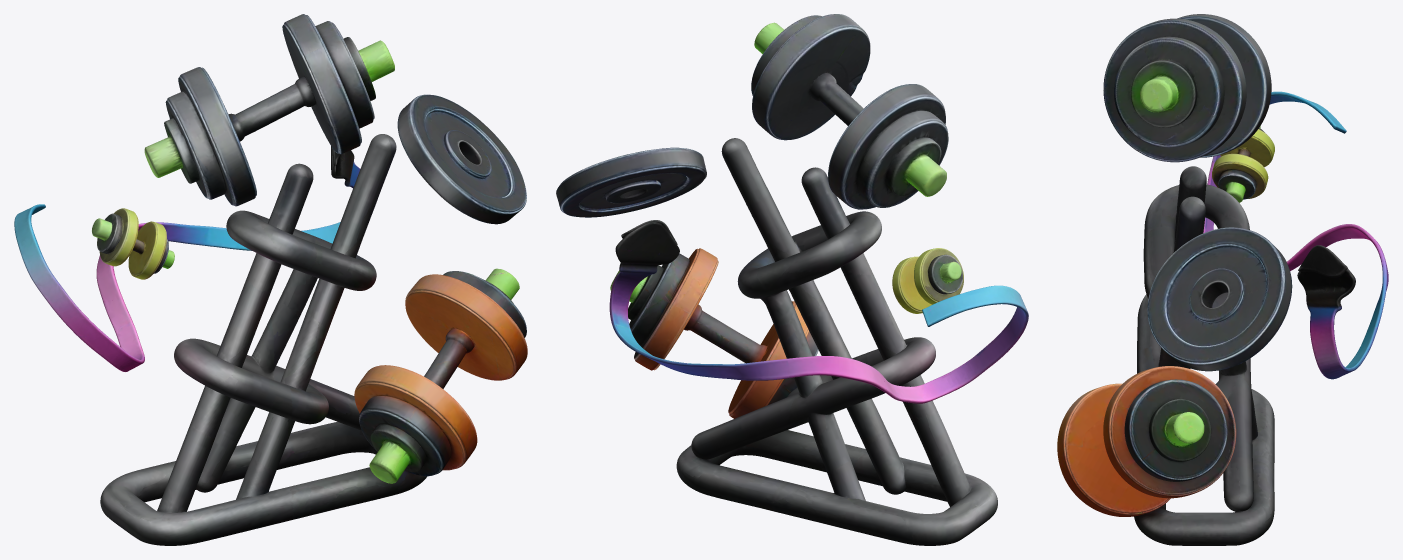
File: home-gym.glb
3 views of the same model, side by side, from view 1: azimuth 30°, elevation 25°; view 2: azimuth 150°, elevation 25°; view 3: azimuth 270°, elevation 25° (orthographic). The views are drawn at different scales.
Parts seen in each view (by area): view 1: tripo_part_1, tripo_part_4, tripo_part_0, tripo_part_5, tripo_part_3, tripo_part_6, tripo_part_2; view 2: tripo_part_1, tripo_part_0, tripo_part_4, tripo_part_2, tripo_part_5, tripo_part_3, tripo_part_6; view 3: tripo_part_4, tripo_part_0, tripo_part_1, tripo_part_5, tripo_part_2, tripo_part_6, tripo_part_3.
Part boxes in pixels (x1,y1,x2,y2): tripo_part_1: (100, 134, 427, 545); tripo_part_4: (354, 268, 527, 483); tripo_part_0: (144, 14, 394, 206); tripo_part_5: (397, 94, 526, 224); tripo_part_3: (14, 204, 144, 371); tripo_part_6: (92, 208, 174, 279); tripo_part_2: (96, 146, 360, 303); tripo_part_1: (676, 138, 997, 545); tripo_part_0: (751, 14, 948, 209); tripo_part_4: (610, 248, 818, 418); tripo_part_2: (609, 220, 886, 391); tripo_part_5: (556, 147, 706, 217); tripo_part_3: (883, 285, 1028, 403); tripo_part_6: (892, 248, 963, 313); tripo_part_4: (1057, 366, 1236, 516); tripo_part_0: (1103, 14, 1271, 162); tripo_part_1: (1134, 166, 1274, 545); tripo_part_5: (1147, 227, 1292, 371); tripo_part_2: (1297, 224, 1388, 379); tripo_part_6: (1212, 126, 1274, 202); tripo_part_3: (1203, 91, 1346, 270).
Bounding box in the file's own units: 0.9788 × 0.9273 × 0.5877.
7 materials, 7 textured.
